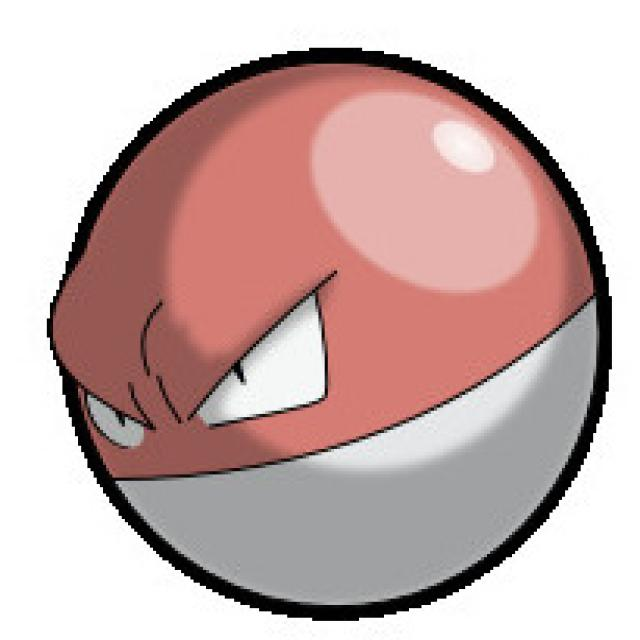Voltorb: (50, 54, 609, 619)
